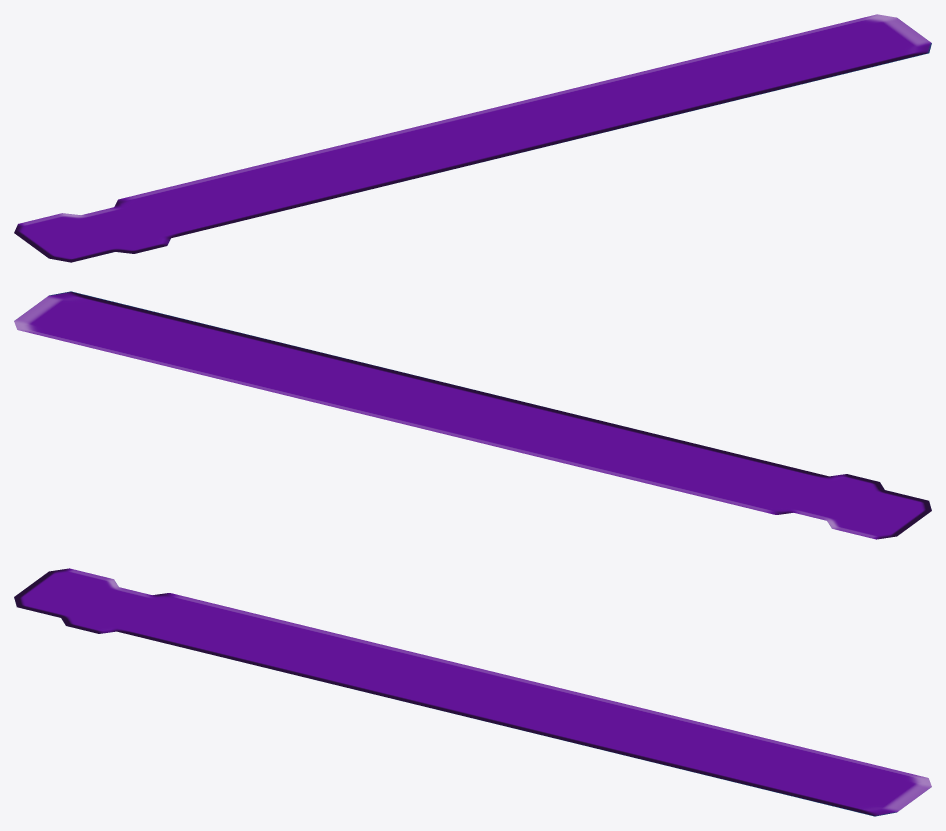
Rendered from Block_new_Streched_Plane.fbx.
3 renders of one model, top to bottom at view 1: azimuth 30°, elevation 25°; view 2: azimuth 150°, elevation 25°; view 3: azimuth 330°, elevation 25°, orthographic.
Visible parts, largest first — view 1: Block01_Plane:pCube1; view 2: Block01_Plane:pCube1; view 3: Block01_Plane:pCube1.
Boxes of the visible parts, left/top/right/bottom form: Block01_Plane:pCube1: left=14, top=14, right=931, bottom=262; Block01_Plane:pCube1: left=14, top=291, right=931, bottom=539; Block01_Plane:pCube1: left=14, top=568, right=931, bottom=816.
Size of the model in its own units: 62.5 by 0 by 7.35.
